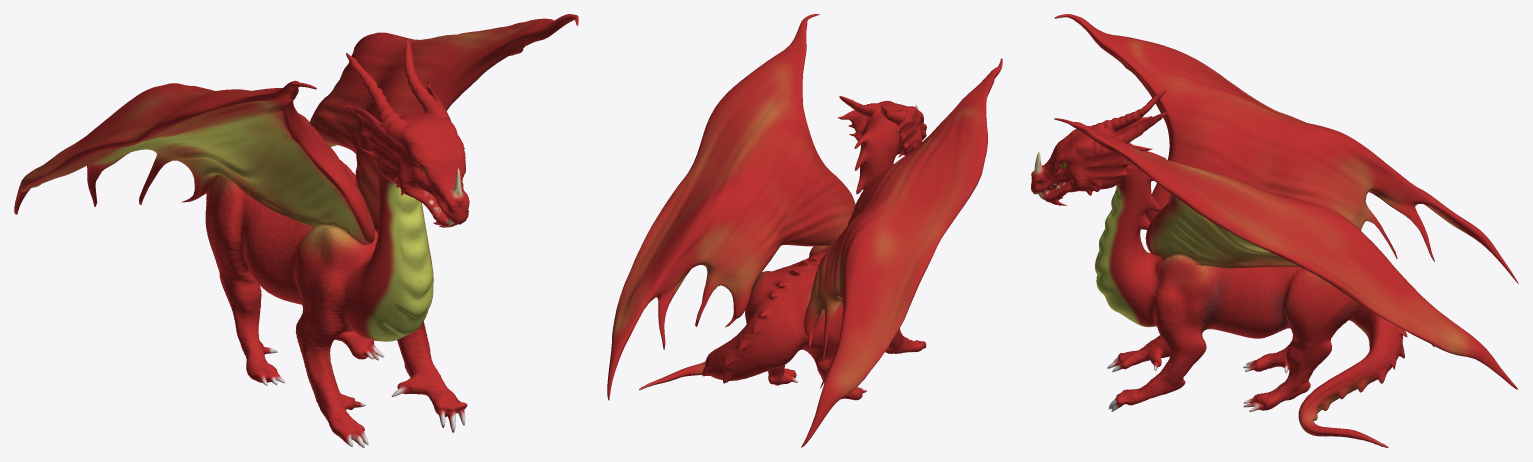
File: dragon.glb
3 views of the same model, side by side, from view 1: azimuth 30°, elevation 25°; view 2: azimuth 150°, elevation 25°; view 3: azimuth 270°, elevation 25° (orthographic). The views are drawn at different scales.
Parts seen in each view (by area): view 1: Group56496; view 2: Group56496; view 3: Group56496.
Boxes of the visible parts, box(x1,y1,x2,y2) form: Group56496: box(14, 14, 578, 447); Group56496: box(607, 14, 1002, 447); Group56496: box(1031, 14, 1518, 447).
Bounding box in the file's own units: 574 × 593 × 802.
1 material, 1 textured.
